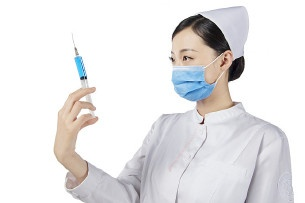Mask: (166, 43, 224, 100)
